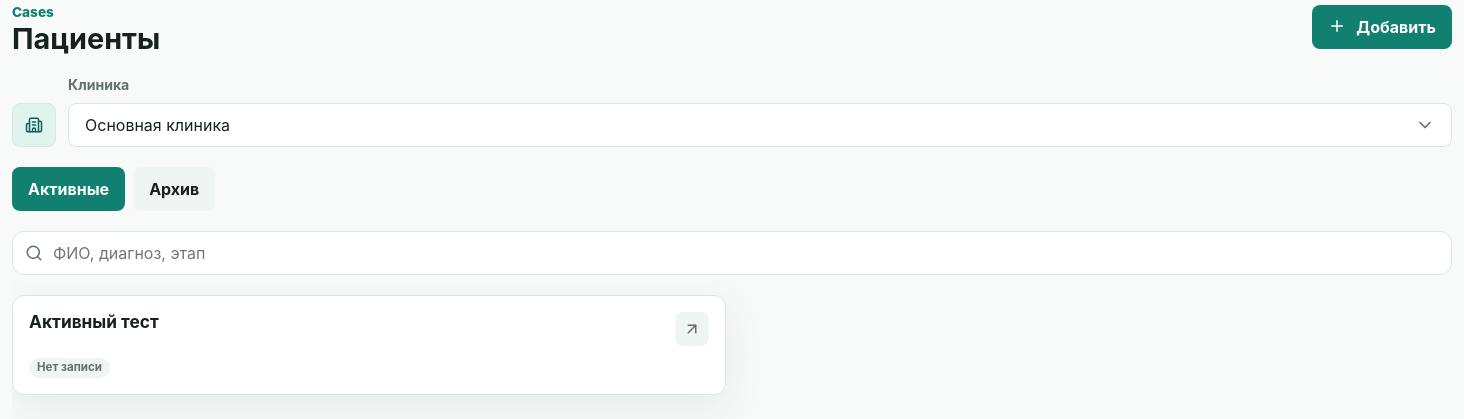
Test: patient archive list › switches between active and archived patients within the current clinic
Expected: the heading "Активный тест" is shown, [29,311,159,332]
Expected: the text "Архивный тест" is not shown
Click the button "Архив" at [174, 189], box [133,167,215,211]
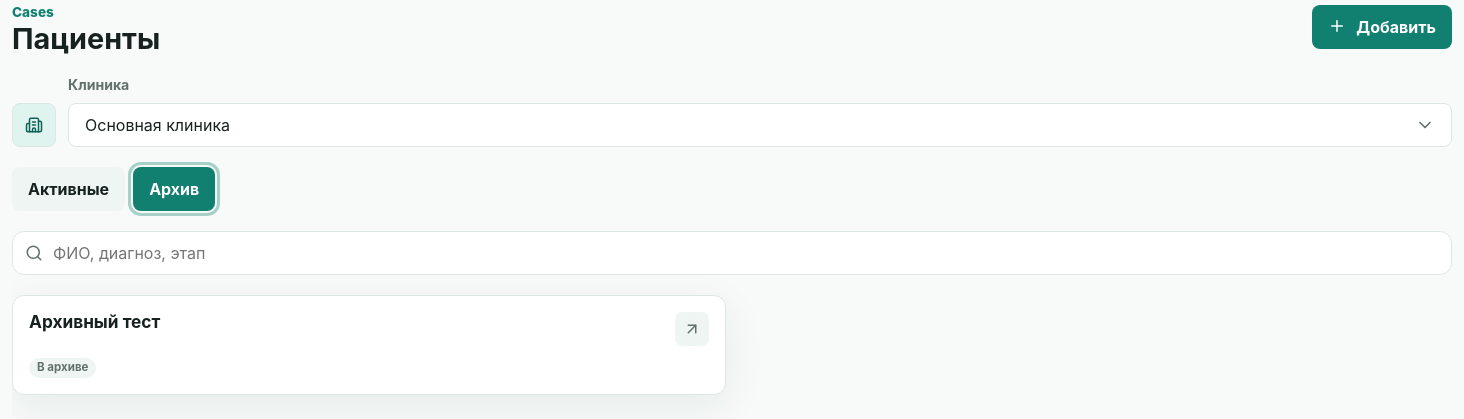
Expected: the heading "Архивный тест" is shown, [29,311,160,332]
Expected: the link "Активный тест" is gone
Expected: the text "В архиве" is shown, [29,358,96,378]
